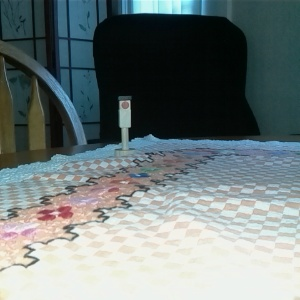traffic light red: (113, 92, 136, 160)
